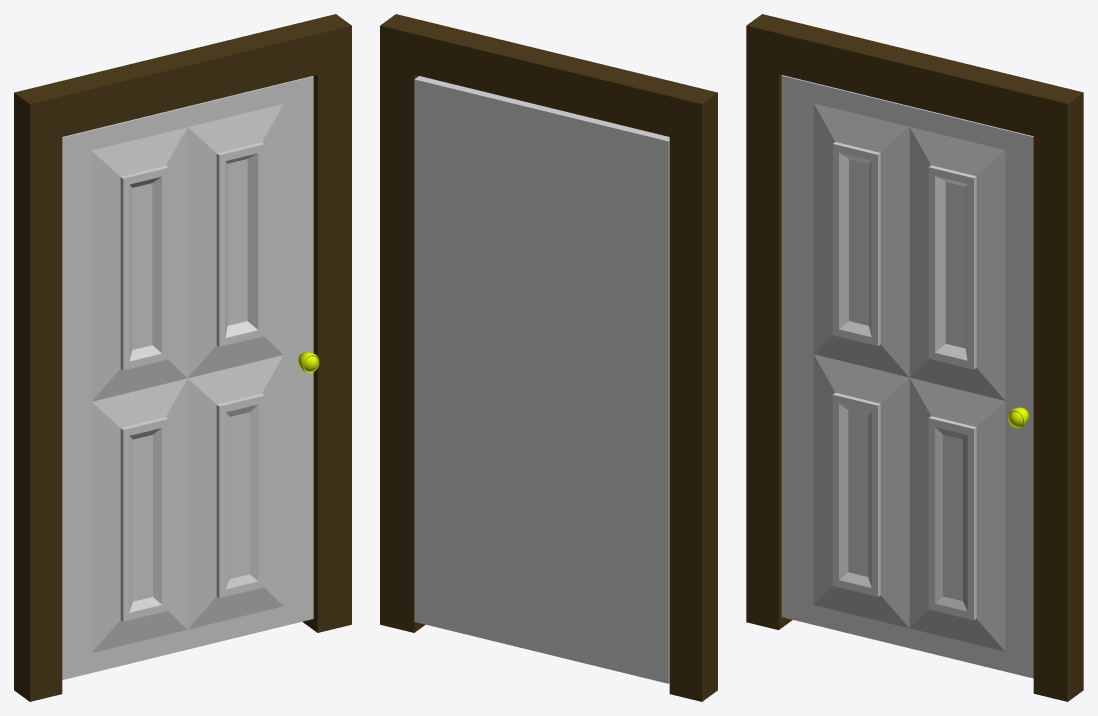
Rendered from 175432c8-e236-4c6a-be25-4605d6cff3a3.glb.
3 renders of one model, left to right at view 1: azimuth 30°, elevation 25°; view 2: azimuth 150°, elevation 25°; view 3: azimuth 330°, elevation 25°, orthographic.
Visible parts, largest first — view 1: ChamferBox002, ChamferBox001; view 2: ChamferBox002, ChamferBox001; view 3: ChamferBox002, ChamferBox001.
Boxes of the visible parts, <box> form: ChamferBox002: <box>62,76,313,679</box>; ChamferBox001: <box>14,14,351,701</box>; ChamferBox002: <box>414,76,669,683</box>; ChamferBox001: <box>380,14,717,701</box>; ChamferBox002: <box>781,75,1033,678</box>; ChamferBox001: <box>746,14,1083,701</box>.
Bounding box in the file's own units: 37.28 × 66.27 × 5.05.
